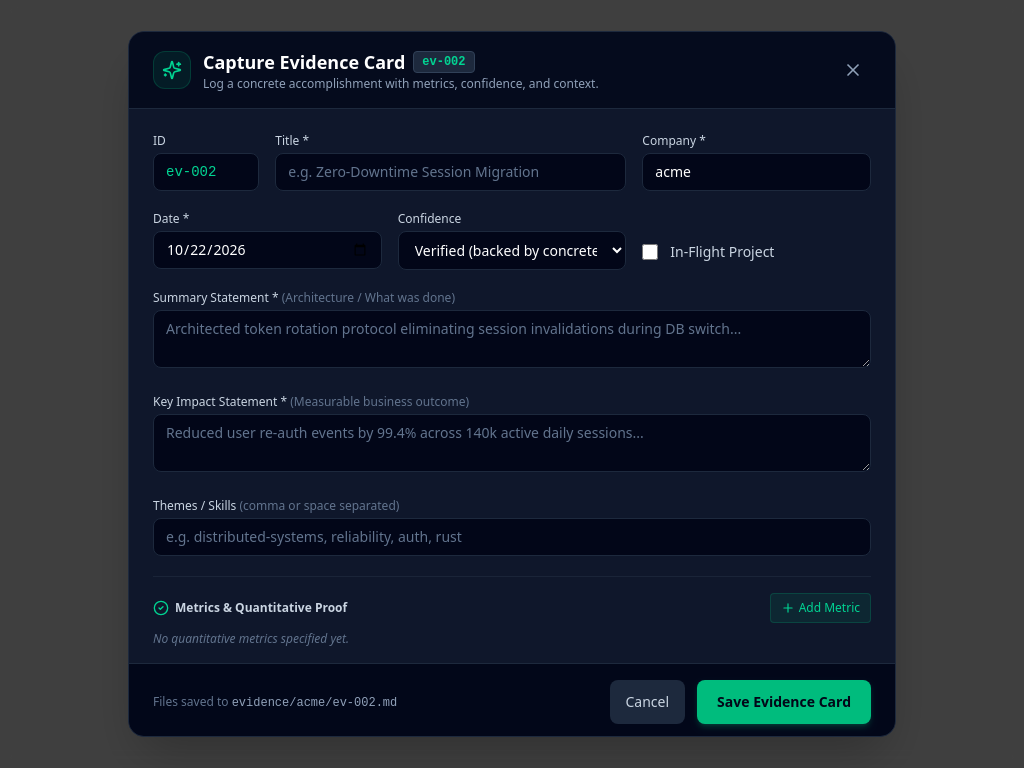
Touch-first mobile modals › QuickCaptureModal renders responsive bottom-sheet container and stacked metric rows
The width and height of the screenshot is (1024, 768).
Note: Add a metric and check stacked fields
Click the button "Add Metric".
click(820, 608)  # box [770,593,871,623]
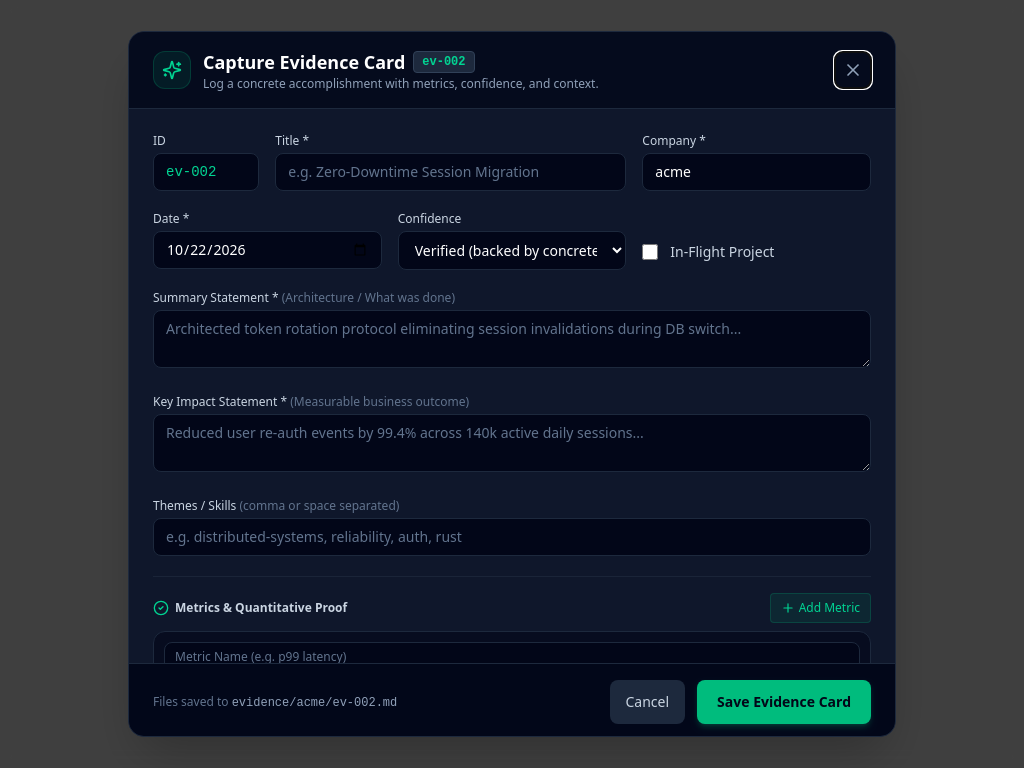
expect the field with placeholder "Metric Name (e.g. p99 latency)" is shown: met, box [164,642,860,663]
